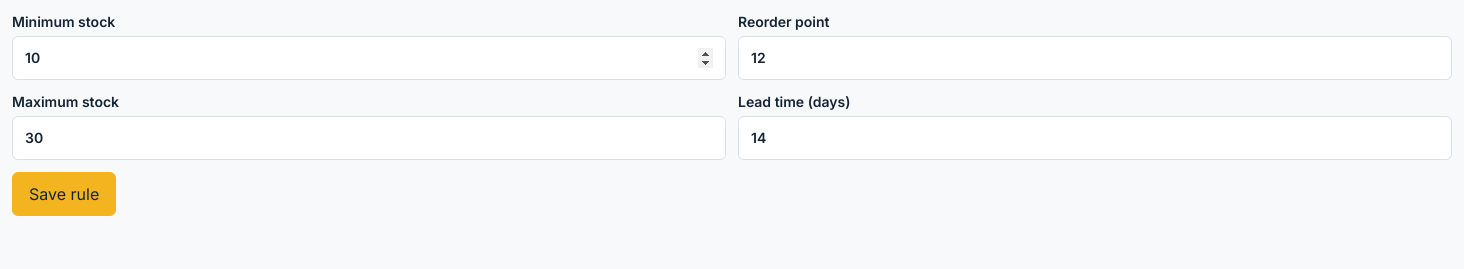
Test case: Inventory action center › rejects a reorder point below minimum stock
Replace the text in the number field labelled "Reorder point" with "5": {"x": 1095, "y": 58} [738,36,1452,80]
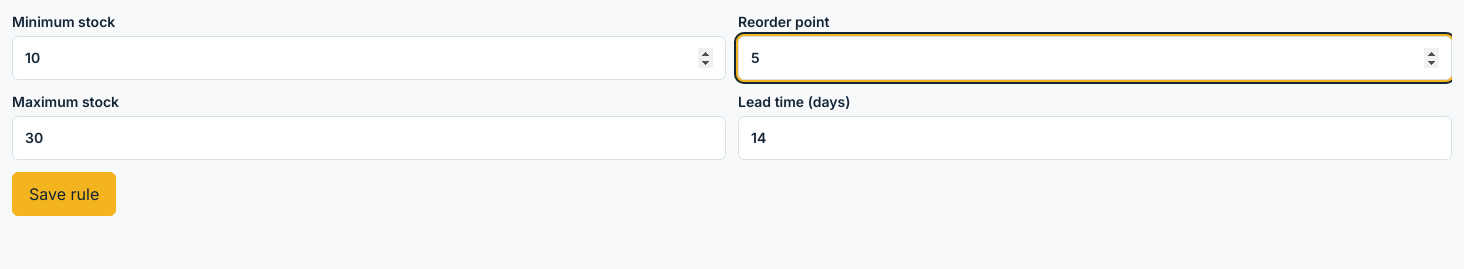
Click the button "Save rule": {"x": 64, "y": 194} [12,172,116,216]
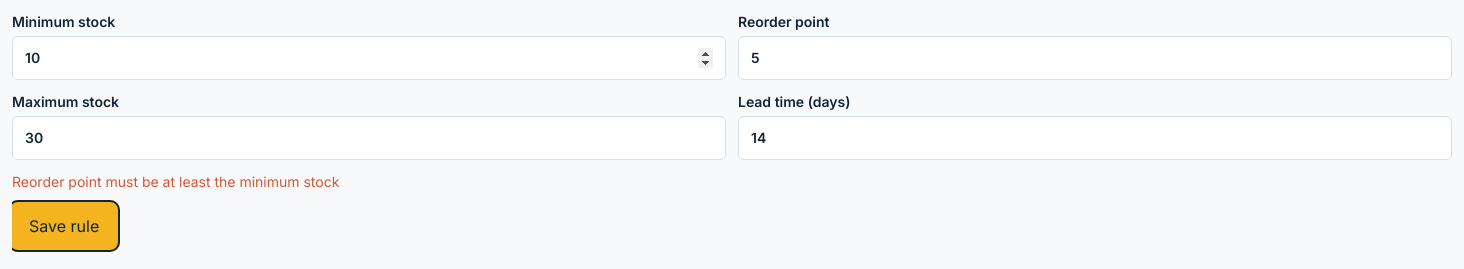
Check: the text "Reorder point must be at least the minimum stock" is shown, box [12,173,339,190]
